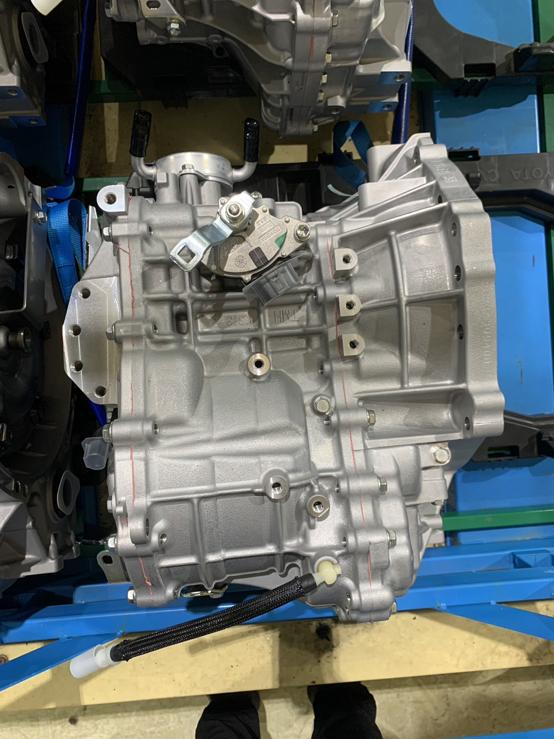gearbox_type1: (56, 133, 508, 628)
gearbox_type1_FP1: (332, 242, 359, 274)
gearbox_type1_FP2: (334, 292, 363, 319)
gearbox_type1_FP3: (97, 180, 130, 213)
